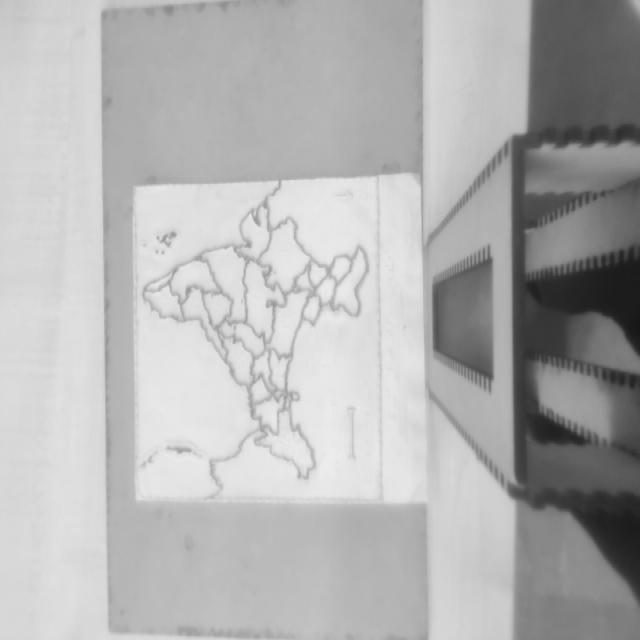map: (134, 177, 381, 504)
